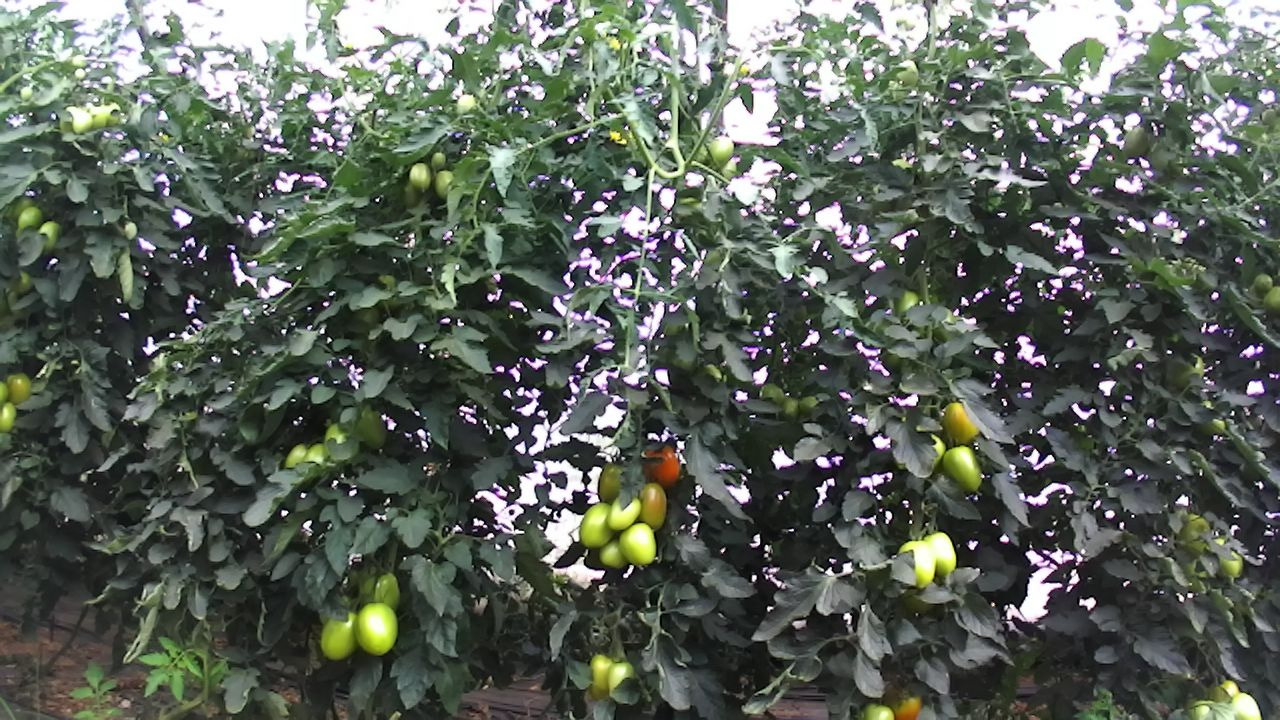tomato: (352, 600, 400, 658), (894, 538, 940, 593), (940, 442, 984, 494), (318, 610, 360, 663), (941, 399, 984, 446), (641, 442, 682, 491), (615, 520, 658, 566), (579, 498, 616, 549), (921, 529, 958, 579), (635, 479, 669, 532), (354, 403, 390, 453), (605, 493, 642, 531), (36, 217, 64, 258), (1229, 689, 1266, 720), (4, 369, 34, 405), (1122, 124, 1151, 159), (855, 698, 897, 720), (15, 203, 45, 232), (407, 160, 432, 194), (68, 109, 94, 136), (1260, 282, 1280, 317), (0, 398, 18, 434), (777, 394, 800, 421), (1252, 270, 1275, 295), (429, 151, 448, 170)
